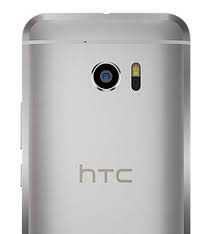htc: (16, 7, 195, 234)
